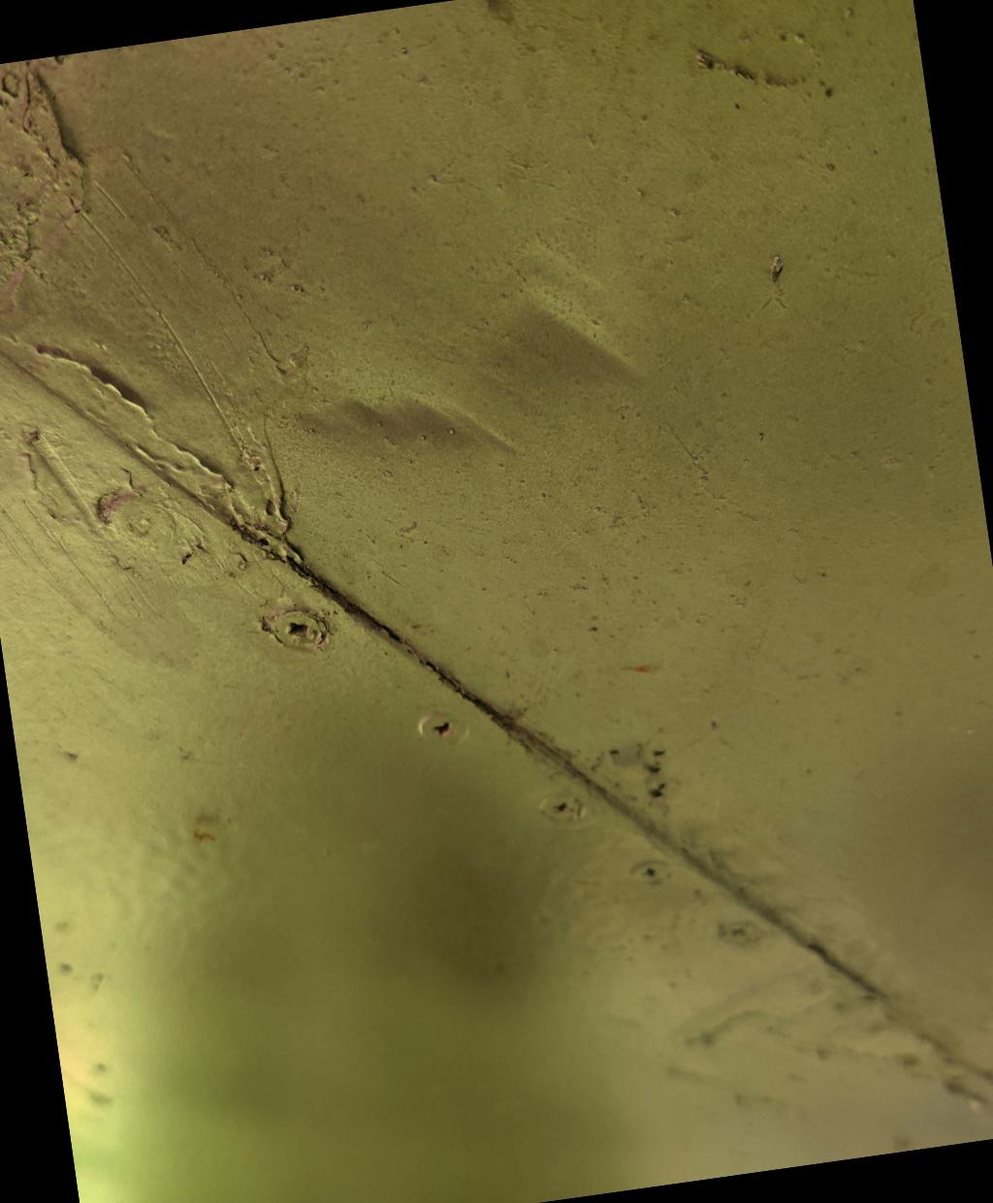dent: (253, 215, 683, 533)
